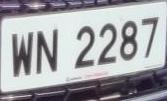2: (73, 20, 98, 74), (95, 17, 119, 69)
7: (138, 13, 162, 60)
8: (118, 15, 141, 66)
N: (34, 24, 62, 82)
W: (9, 26, 37, 85)
